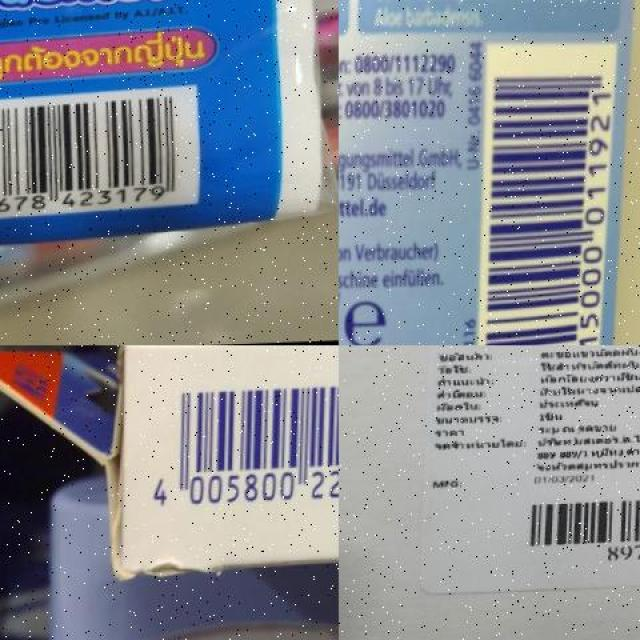Barcode: (475, 39, 617, 345), (142, 362, 338, 534), (0, 97, 197, 211), (517, 484, 640, 568)
